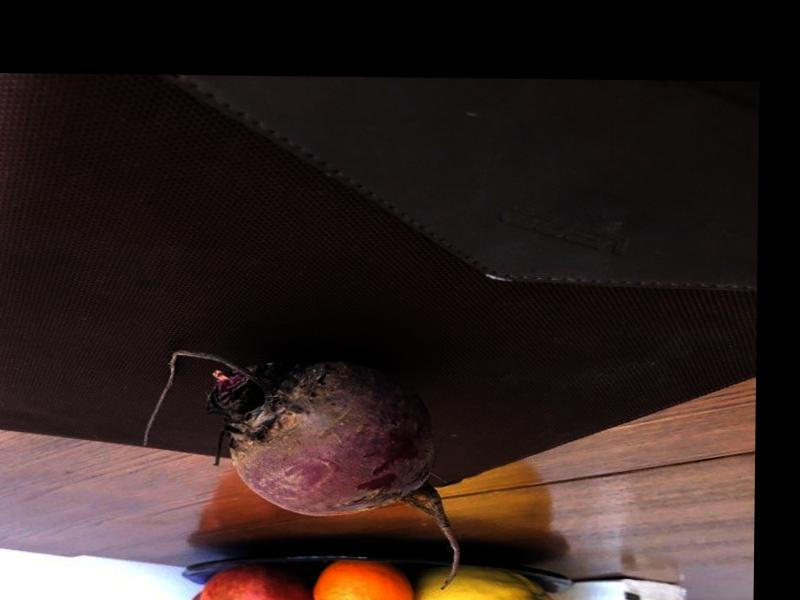Beet: (140, 349, 464, 591)
